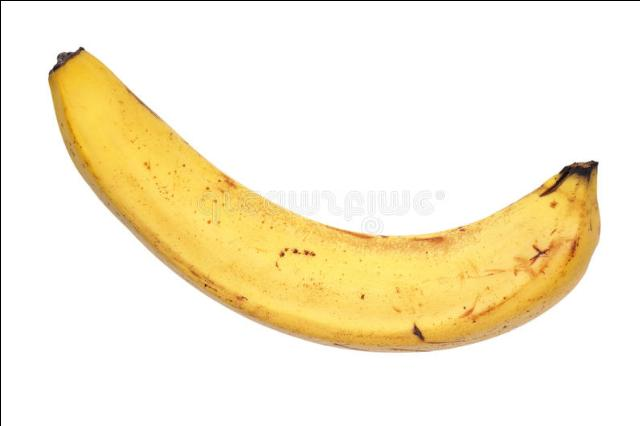Bananas: (47, 47, 599, 352)
